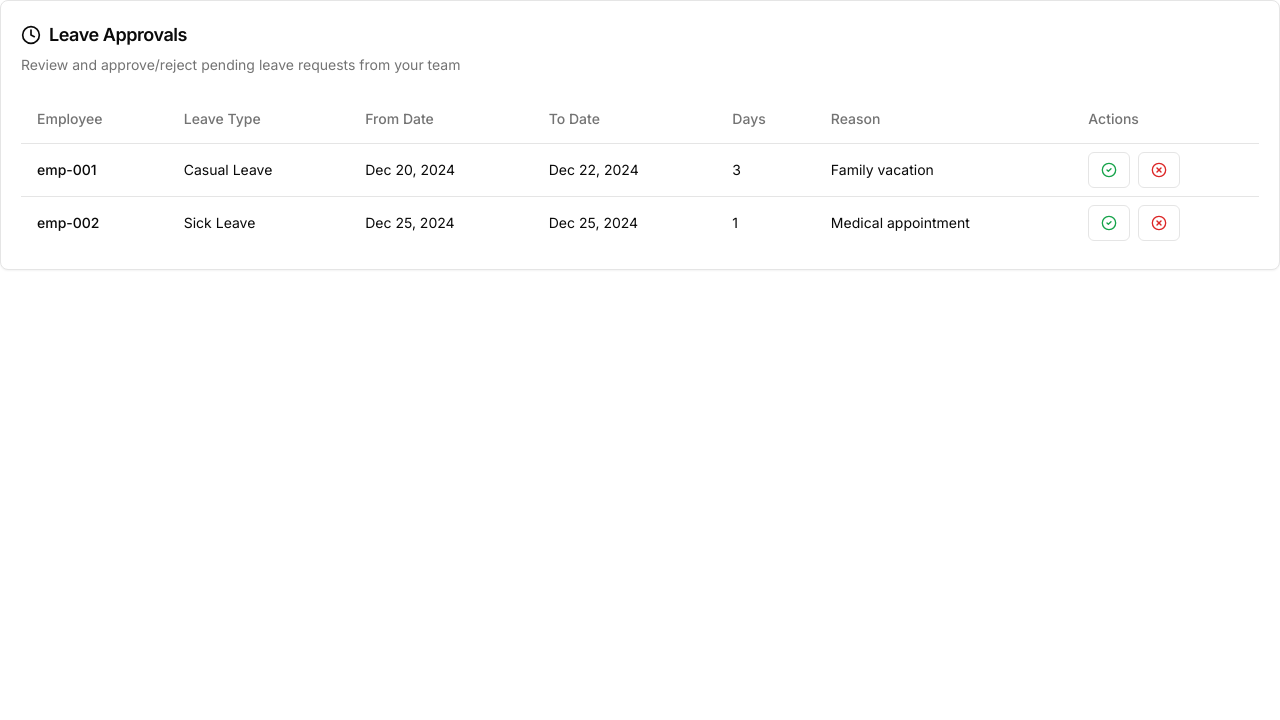
it: LeaveApprovalPanel Component › Leave Approval › should disable approve button while loading
Click the 1st button.
click(1109, 170)  # box [1088,152,1130,188]
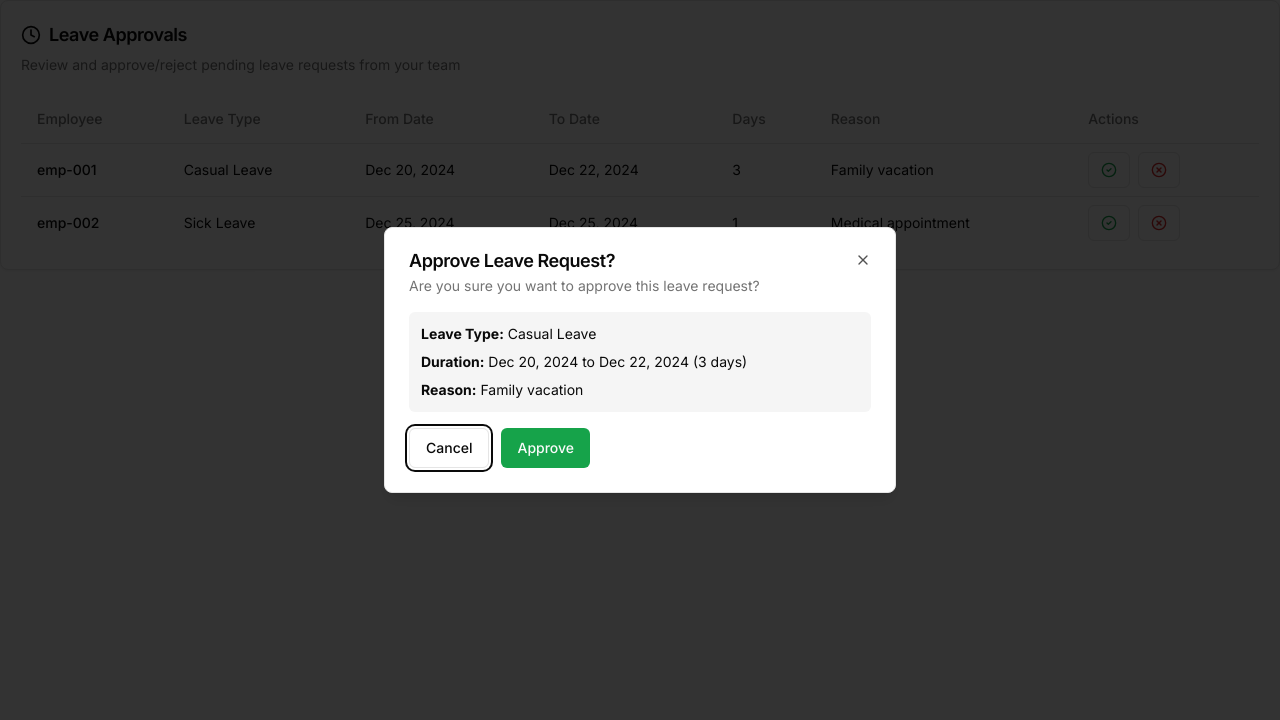
Now the heading "Approve Leave Request?" is shown, box [409,250,615,271]
Click the button "Approve".
click(546, 448)  # box [502,428,590,468]
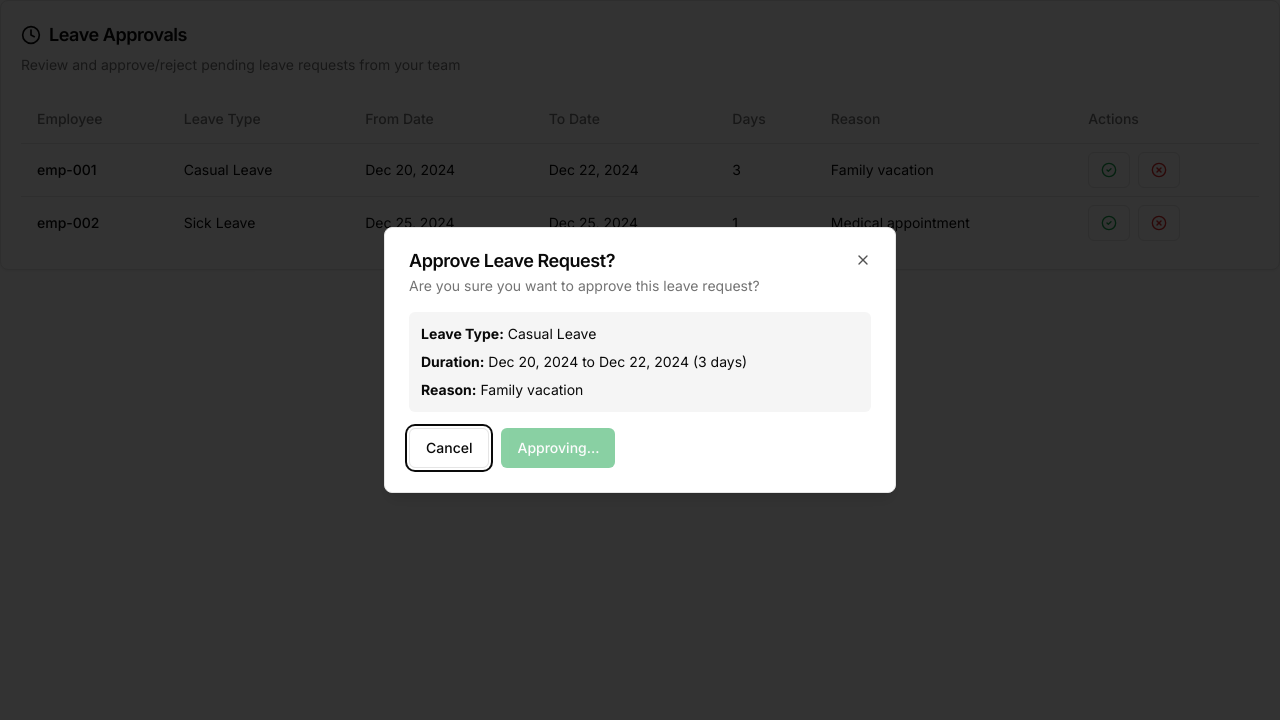
Now the button named "Approve" is disabled, box [502,428,616,468]
